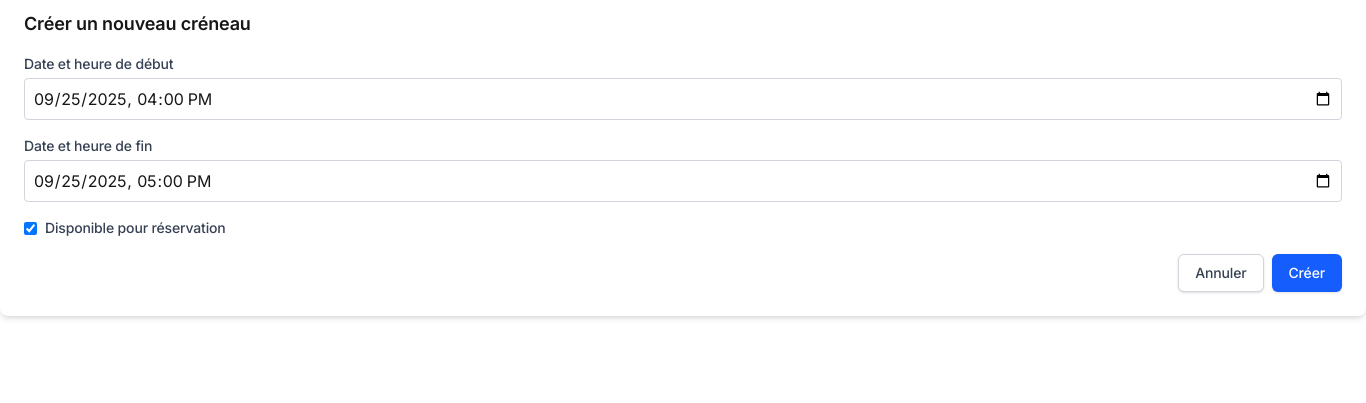
Test case: SlotForm Component › validates that end time is after start time
This screenshot has width=1366, height=403.
Replace the text in the field labelled "Date et heure de début" with "2025-07-10T11:00" at (683, 99), box [24,78,1342,120]
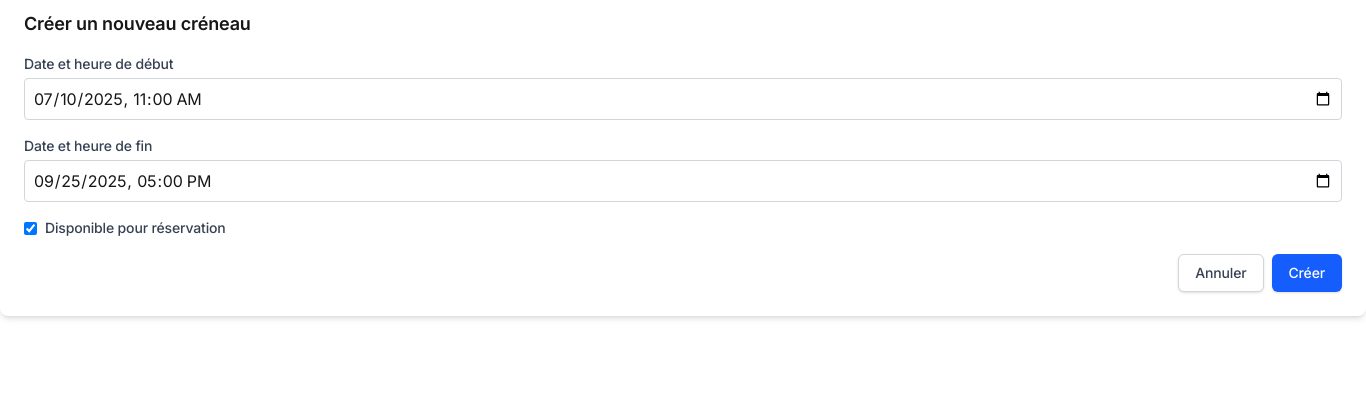
Replace the text in the field labelled "Date et heure de fin" with "2025-07-10T10:00" at (683, 181), box [24,160,1342,202]
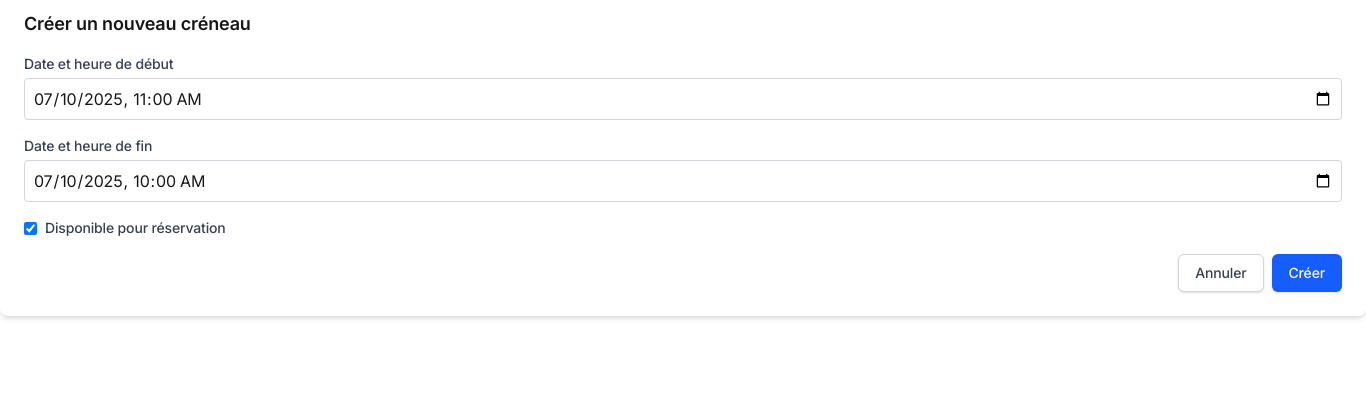
// Soumettre le formulaire
Click the button "Créer".
click(1307, 273)  # box [1272,254,1342,292]
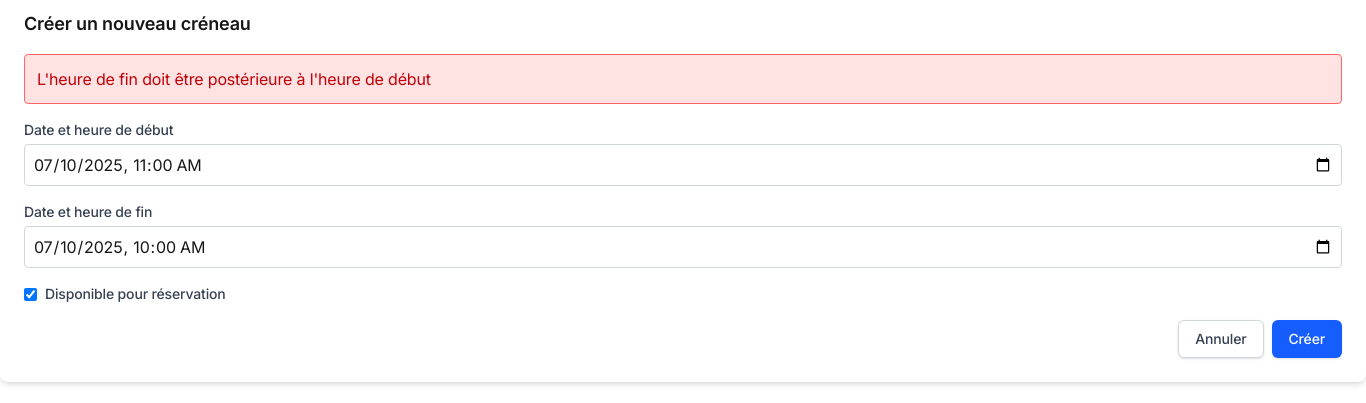
Check: the text "L'heure de fin doit être postérieure à l'heure de début" is shown, box [24,54,1342,104]
